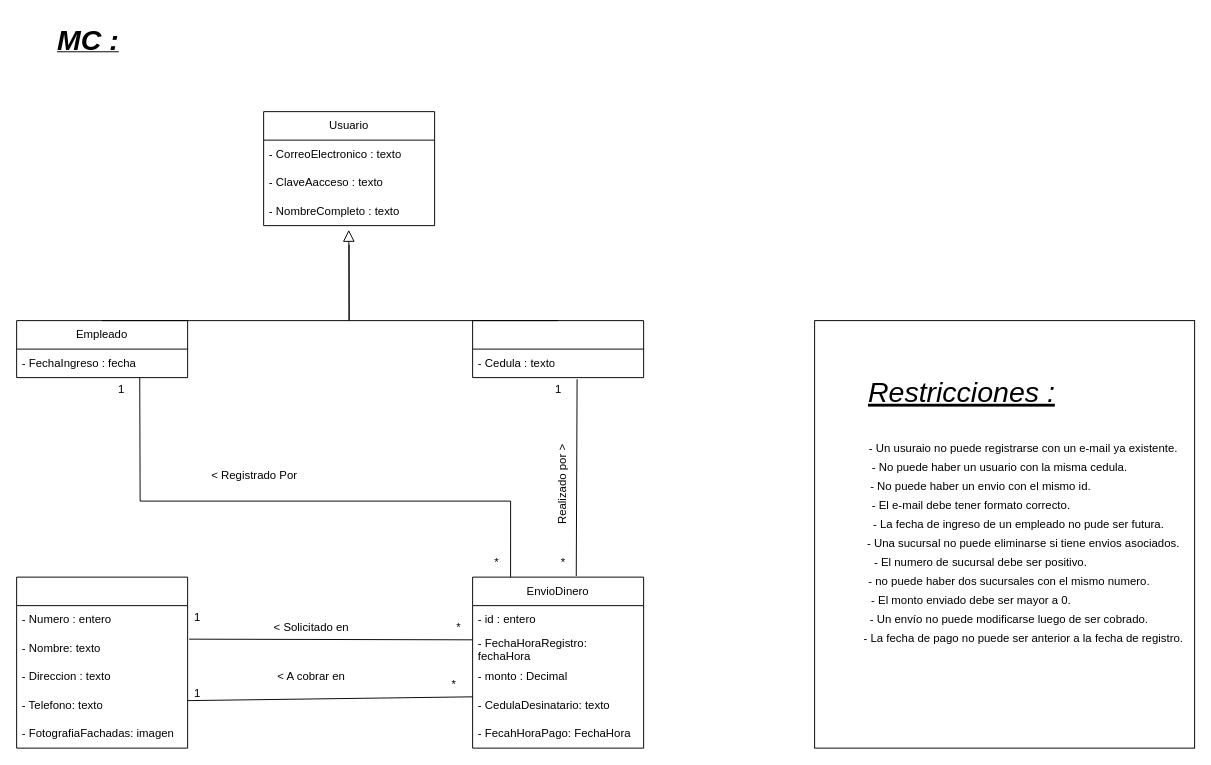
The diagram is 1211 pixels wide and 765 high, and some of its shapes have lost their labels. Each missing label, with the box of its shape:
Cliente: (472, 320, 644, 378)
Sucursal: (16, 576, 188, 748)
